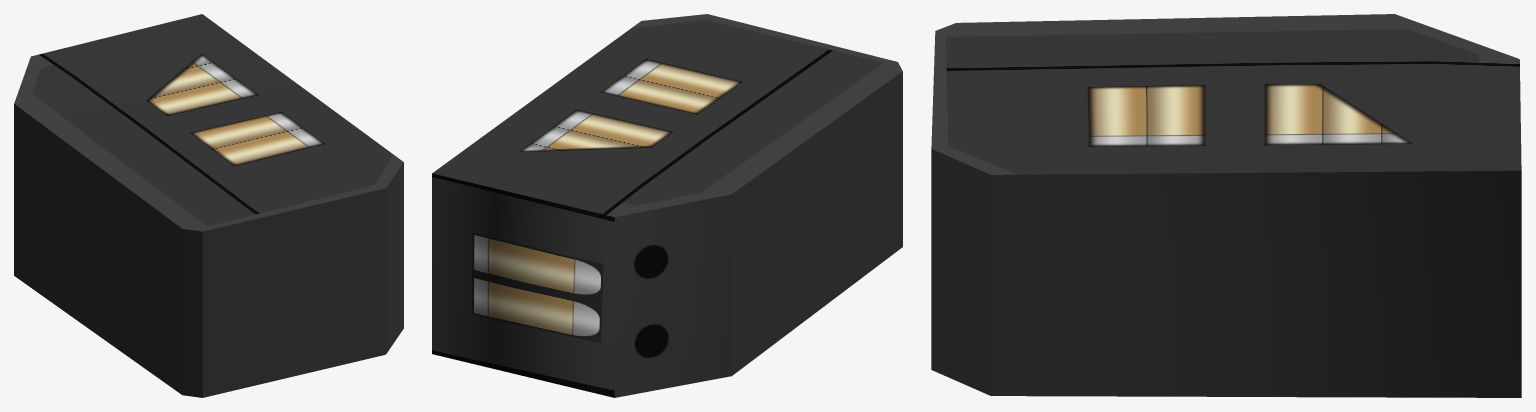
The model's file is LawgiverClip.fbx.
3 views of the same model, side by side, from view 1: azimuth 30°, elevation 25°; view 2: azimuth 150°, elevation 25°; view 3: azimuth 270°, elevation 25° (orthographic). The views are drawn at different scales.
Visible parts, largest first — view 1: Glock 17 Magazine; view 2: Glock 17 Magazine; view 3: Glock 17 Magazine.
Boxes of the visible parts, <box> form: Glock 17 Magazine: <box>14,14,403,397</box>; Glock 17 Magazine: <box>432,14,902,397</box>; Glock 17 Magazine: <box>931,14,1521,397</box>.
Size of the model in its own units: 0.0449 by 0.0314 by 0.0726.
